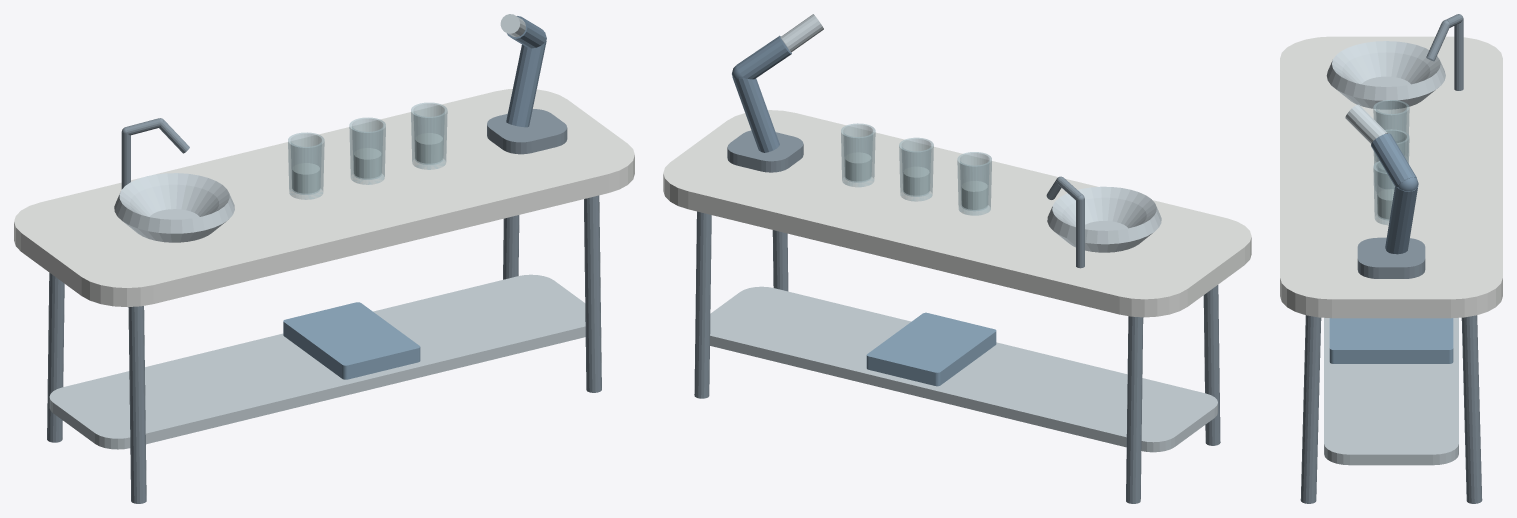
File: school_science_bench.glb
3 renders of one model, left to right at view 1: azimuth 30°, elevation 25°; view 2: azimuth 150°, elevation 25°; view 3: azimuth 270°, elevation 25°, orthographic. The views are drawn at different scales.
Visible parts, largest first — view 1: decor_d8dcd8_matte, decor_9aadb8_metal, decor_455665_metal, decor_88b9ca_glass, decor_476a8a_matte, decor_354d66_matte, decor_9bb7b5_matte; view 2: decor_d8dcd8_matte, decor_9aadb8_metal, decor_455665_metal, decor_88b9ca_glass, decor_476a8a_matte, decor_354d66_matte, decor_9bb7b5_matte; view 3: decor_d8dcd8_matte, decor_9aadb8_metal, decor_455665_metal, decor_476a8a_matte, decor_354d66_matte, decor_88b9ca_glass, decor_9bb7b5_matte.
Part boxes in pixels (box(x1,y1,x2,y2)): decor_d8dcd8_matte: box(14, 89, 634, 306); decor_9aadb8_metal: box(49, 14, 585, 449); decor_455665_metal: box(47, 109, 601, 503); decor_88b9ca_glass: box(288, 102, 447, 199); decor_476a8a_matte: box(283, 302, 420, 379); decor_354d66_matte: box(506, 16, 546, 127); decor_9bb7b5_matte: box(292, 133, 442, 193); decor_d8dcd8_matte: box(663, 110, 1251, 317); decor_9aadb8_metal: box(710, 14, 1217, 452); decor_455665_metal: box(694, 130, 1220, 503); decor_88b9ca_glass: box(841, 123, 991, 215); decor_476a8a_matte: box(866, 312, 996, 386); decor_354d66_matte: box(732, 35, 791, 152); decor_9bb7b5_matte: box(845, 152, 987, 209); decor_d8dcd8_matte: box(1280, 36, 1502, 318); decor_9aadb8_metal: box(1324, 41, 1458, 465); decor_455665_metal: box(1300, 14, 1482, 503); decor_476a8a_matte: box(1329, 318, 1453, 363); decor_354d66_matte: box(1371, 133, 1418, 254); decor_88b9ca_glass: box(1373, 100, 1409, 224); decor_9bb7b5_matte: box(1378, 130, 1404, 218).
Size of the model in its own units: 2.4 by 1.56 by 0.86.
